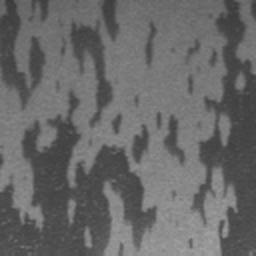Red iron sheet: (0, 0, 186, 256), (192, 0, 256, 256), (0, 0, 45, 108), (29, 0, 50, 23), (146, 24, 157, 65), (184, 38, 201, 61), (113, 113, 123, 136), (187, 74, 193, 92), (0, 152, 5, 168), (188, 237, 193, 248)
